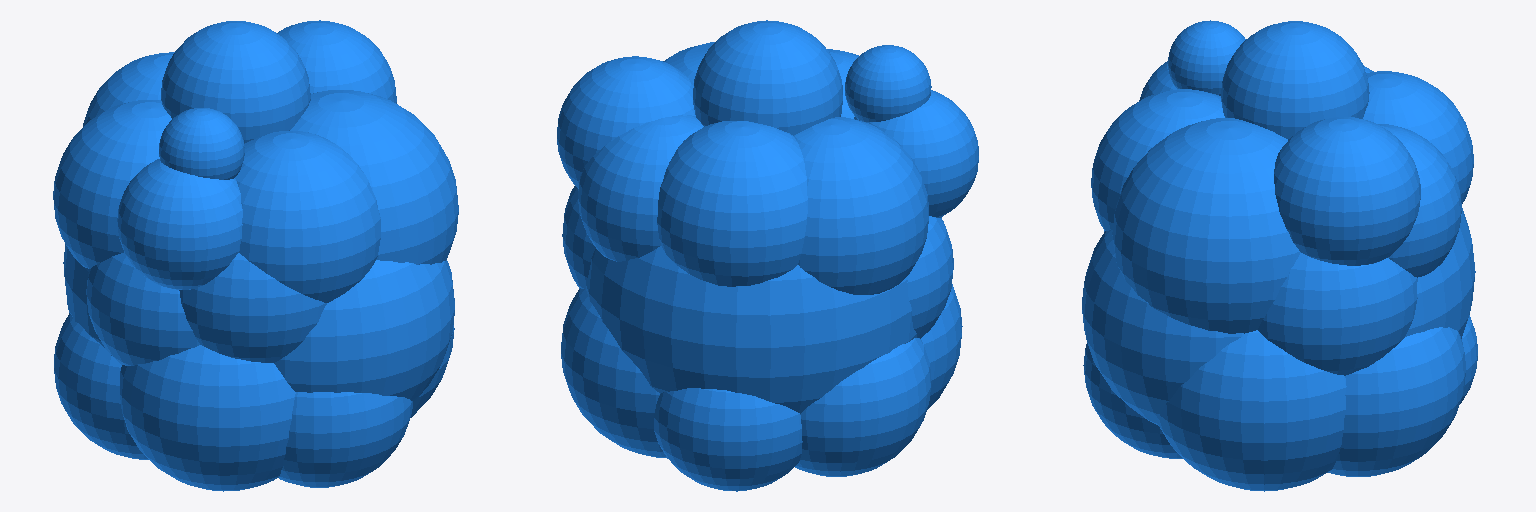
robot.urdf — cooker:
<?xml version="1.0"?>
<robot name="cooker">
  <!-- morphit:centroid -0.010629 0.001971 0.160175 -->
  <material name="default_color">
    <color rgba="0.200000 0.600000 1.000000 1.000000"/>
  </material>
  <link name="base">
    <inertial>
      <mass value="0.001000"/>
      <inertia ixx="0.000010" ixy="0.0" ixz="0.0" iyy="0.000010" iyz="0.0" izz="0.000010"/>
    </inertial>
  </link>
  <link name="sphere_0">
    <visual>
      <origin xyz="0 0 0" rpy="0 0 0"/>
      <geometry><sphere radius="0.082006"/></geometry>
      <material name="default_color"/>
    </visual>
    <collision>
      <origin xyz="0 0 0" rpy="0 0 0"/>
      <geometry><sphere radius="0.082006"/></geometry>
    </collision>
    <inertial>
      <mass value="0.056580"/>
      <inertia ixx="0.000152" ixy="0.0" ixz="0.0" iyy="0.000152" iyz="0.0" izz="0.000152"/>
    </inertial>
  </link>
  <joint name="sphere_0_fixed" type="fixed">
    <parent link="base"/>
    <child link="sphere_0"/>
    <origin xyz="-0.042521 -0.042486 -0.084734" rpy="0 0 0"/>
  </joint>
  <link name="sphere_1">
    <visual>
      <origin xyz="0 0 0" rpy="0 0 0"/>
      <geometry><sphere radius="0.088772"/></geometry>
      <material name="default_color"/>
    </visual>
    <collision>
      <origin xyz="0 0 0" rpy="0 0 0"/>
      <geometry><sphere radius="0.088772"/></geometry>
    </collision>
    <inertial>
      <mass value="0.071773"/>
      <inertia ixx="0.000226" ixy="0.0" ixz="0.0" iyy="0.000226" iyz="0.0" izz="0.000226"/>
    </inertial>
  </link>
  <joint name="sphere_1_fixed" type="fixed">
    <parent link="base"/>
    <child link="sphere_1"/>
    <origin xyz="0.070634 -0.011053 -0.077750" rpy="0 0 0"/>
  </joint>
  <link name="sphere_2">
    <visual>
      <origin xyz="0 0 0" rpy="0 0 0"/>
      <geometry><sphere radius="0.130591"/></geometry>
      <material name="default_color"/>
    </visual>
    <collision>
      <origin xyz="0 0 0" rpy="0 0 0"/>
      <geometry><sphere radius="0.130591"/></geometry>
    </collision>
    <inertial>
      <mass value="0.228489"/>
      <inertia ixx="0.001559" ixy="0.0" ixz="0.0" iyy="0.001559" iyz="0.0" izz="0.001559"/>
    </inertial>
  </link>
  <joint name="sphere_2_fixed" type="fixed">
    <parent link="base"/>
    <child link="sphere_2"/>
    <origin xyz="0.002613 0.017402 -0.025261" rpy="0 0 0"/>
  </joint>
  <link name="sphere_3">
    <visual>
      <origin xyz="0 0 0" rpy="0 0 0"/>
      <geometry><sphere radius="0.088016"/></geometry>
      <material name="default_color"/>
    </visual>
    <collision>
      <origin xyz="0 0 0" rpy="0 0 0"/>
      <geometry><sphere radius="0.088016"/></geometry>
    </collision>
    <inertial>
      <mass value="0.069953"/>
      <inertia ixx="0.000217" ixy="0.0" ixz="0.0" iyy="0.000217" iyz="0.0" izz="0.000217"/>
    </inertial>
  </link>
  <joint name="sphere_3_fixed" type="fixed">
    <parent link="base"/>
    <child link="sphere_3"/>
    <origin xyz="0.060050 -0.037404 0.032953" rpy="0 0 0"/>
  </joint>
  <link name="sphere_4">
    <visual>
      <origin xyz="0 0 0" rpy="0 0 0"/>
      <geometry><sphere radius="0.063978"/></geometry>
      <material name="default_color"/>
    </visual>
    <collision>
      <origin xyz="0 0 0" rpy="0 0 0"/>
      <geometry><sphere radius="0.063978"/></geometry>
    </collision>
    <inertial>
      <mass value="0.026867"/>
      <inertia ixx="0.000044" ixy="0.0" ixz="0.0" iyy="0.000044" iyz="0.0" izz="0.000044"/>
    </inertial>
  </link>
  <joint name="sphere_4_fixed" type="fixed">
    <parent link="base"/>
    <child link="sphere_4"/>
    <origin xyz="0.051607 0.073885 0.050581" rpy="0 0 0"/>
  </joint>
  <link name="sphere_5">
    <visual>
      <origin xyz="0 0 0" rpy="0 0 0"/>
      <geometry><sphere radius="0.081423"/></geometry>
      <material name="default_color"/>
    </visual>
    <collision>
      <origin xyz="0 0 0" rpy="0 0 0"/>
      <geometry><sphere radius="0.081423"/></geometry>
    </collision>
    <inertial>
      <mass value="0.055383"/>
      <inertia ixx="0.000147" ixy="0.0" ixz="0.0" iyy="0.000147" iyz="0.0" izz="0.000147"/>
    </inertial>
  </link>
  <joint name="sphere_5_fixed" type="fixed">
    <parent link="base"/>
    <child link="sphere_5"/>
    <origin xyz="0.054348 0.059633 -0.081742" rpy="0 0 0"/>
  </joint>
  <link name="sphere_6">
    <visual>
      <origin xyz="0 0 0" rpy="0 0 0"/>
      <geometry><sphere radius="0.063649"/></geometry>
      <material name="default_color"/>
    </visual>
    <collision>
      <origin xyz="0 0 0" rpy="0 0 0"/>
      <geometry><sphere radius="0.063649"/></geometry>
    </collision>
    <inertial>
      <mass value="0.026455"/>
      <inertia ixx="0.000043" ixy="0.0" ixz="0.0" iyy="0.000043" iyz="0.0" izz="0.000043"/>
    </inertial>
  </link>
  <joint name="sphere_6_fixed" type="fixed">
    <parent link="base"/>
    <child link="sphere_6"/>
    <origin xyz="-0.016871 0.086463 -0.100841" rpy="0 0 0"/>
  </joint>
  <link name="sphere_7">
    <visual>
      <origin xyz="0 0 0" rpy="0 0 0"/>
      <geometry><sphere radius="0.070543"/></geometry>
      <material name="default_color"/>
    </visual>
    <collision>
      <origin xyz="0 0 0" rpy="0 0 0"/>
      <geometry><sphere radius="0.070543"/></geometry>
    </collision>
    <inertial>
      <mass value="0.036016"/>
      <inertia ixx="0.000072" ixy="0.0" ixz="0.0" iyy="0.000072" iyz="0.0" izz="0.000072"/>
    </inertial>
  </link>
  <joint name="sphere_7_fixed" type="fixed">
    <parent link="base"/>
    <child link="sphere_7"/>
    <origin xyz="-0.069441 0.027136 -0.093211" rpy="0 0 0"/>
  </joint>
  <link name="sphere_8">
    <visual>
      <origin xyz="0 0 0" rpy="0 0 0"/>
      <geometry><sphere radius="0.101410"/></geometry>
      <material name="default_color"/>
    </visual>
    <collision>
      <origin xyz="0 0 0" rpy="0 0 0"/>
      <geometry><sphere radius="0.101410"/></geometry>
    </collision>
    <inertial>
      <mass value="0.106996"/>
      <inertia ixx="0.000440" ixy="0.0" ixz="0.0" iyy="0.000440" iyz="0.0" izz="0.000440"/>
    </inertial>
  </link>
  <joint name="sphere_8_fixed" type="fixed">
    <parent link="base"/>
    <child link="sphere_8"/>
    <origin xyz="0.035875 -0.047114 -0.037587" rpy="0 0 0"/>
  </joint>
  <link name="sphere_9">
    <visual>
      <origin xyz="0 0 0" rpy="0 0 0"/>
      <geometry><sphere radius="0.051178"/></geometry>
      <material name="default_color"/>
    </visual>
    <collision>
      <origin xyz="0 0 0" rpy="0 0 0"/>
      <geometry><sphere radius="0.051178"/></geometry>
    </collision>
    <inertial>
      <mass value="0.013752"/>
      <inertia ixx="0.000014" ixy="0.0" ixz="0.0" iyy="0.000014" iyz="0.0" izz="0.000014"/>
    </inertial>
  </link>
  <joint name="sphere_9_fixed" type="fixed">
    <parent link="base"/>
    <child link="sphere_9"/>
    <origin xyz="-0.084720 -0.055876 0.062280" rpy="0 0 0"/>
  </joint>
  <link name="sphere_10">
    <visual>
      <origin xyz="0 0 0" rpy="0 0 0"/>
      <geometry><sphere radius="0.067508"/></geometry>
      <material name="default_color"/>
    </visual>
    <collision>
      <origin xyz="0 0 0" rpy="0 0 0"/>
      <geometry><sphere radius="0.067508"/></geometry>
    </collision>
    <inertial>
      <mass value="0.031565"/>
      <inertia ixx="0.000058" ixy="0.0" ixz="0.0" iyy="0.000058" iyz="0.0" izz="0.000058"/>
    </inertial>
  </link>
  <joint name="sphere_10_fixed" type="fixed">
    <parent link="base"/>
    <child link="sphere_10"/>
    <origin xyz="-0.018784 0.079482 0.057415" rpy="0 0 0"/>
  </joint>
  <link name="sphere_11">
    <visual>
      <origin xyz="0 0 0" rpy="0 0 0"/>
      <geometry><sphere radius="0.032242"/></geometry>
      <material name="default_color"/>
    </visual>
    <collision>
      <origin xyz="0 0 0" rpy="0 0 0"/>
      <geometry><sphere radius="0.032242"/></geometry>
    </collision>
    <inertial>
      <mass value="0.003439"/>
      <inertia ixx="0.000001" ixy="0.0" ixz="0.0" iyy="0.000001" iyz="0.0" izz="0.000001"/>
    </inertial>
  </link>
  <joint name="sphere_11_fixed" type="fixed">
    <parent link="base"/>
    <child link="sphere_11"/>
    <origin xyz="-0.068211 -0.051390 0.115244" rpy="0 0 0"/>
  </joint>
  <link name="sphere_12">
    <visual>
      <origin xyz="0 0 0" rpy="0 0 0"/>
      <geometry><sphere radius="0.056095"/></geometry>
      <material name="default_color"/>
    </visual>
    <collision>
      <origin xyz="0 0 0" rpy="0 0 0"/>
      <geometry><sphere radius="0.056095"/></geometry>
    </collision>
    <inertial>
      <mass value="0.018109"/>
      <inertia ixx="0.000023" ixy="0.0" ixz="0.0" iyy="0.000023" iyz="0.0" izz="0.000023"/>
    </inertial>
  </link>
  <joint name="sphere_12_fixed" type="fixed">
    <parent link="base"/>
    <child link="sphere_12"/>
    <origin xyz="-0.002082 0.012349 0.119334" rpy="0 0 0"/>
  </joint>
  <link name="sphere_13">
    <visual>
      <origin xyz="0 0 0" rpy="0 0 0"/>
      <geometry><sphere radius="0.073414"/></geometry>
      <material name="default_color"/>
    </visual>
    <collision>
      <origin xyz="0 0 0" rpy="0 0 0"/>
      <geometry><sphere radius="0.073414"/></geometry>
    </collision>
    <inertial>
      <mass value="0.040595"/>
      <inertia ixx="0.000088" ixy="0.0" ixz="0.0" iyy="0.000088" iyz="0.0" izz="0.000088"/>
    </inertial>
  </link>
  <joint name="sphere_13_fixed" type="fixed">
    <parent link="base"/>
    <child link="sphere_13"/>
    <origin xyz="-0.061808 -0.013606 -0.016134" rpy="0 0 0"/>
  </joint>
  <link name="sphere_14">
    <visual>
      <origin xyz="0 0 0" rpy="0 0 0"/>
      <geometry><sphere radius="0.070316"/></geometry>
      <material name="default_color"/>
    </visual>
    <collision>
      <origin xyz="0 0 0" rpy="0 0 0"/>
      <geometry><sphere radius="0.070316"/></geometry>
    </collision>
    <inertial>
      <mass value="0.035668"/>
      <inertia ixx="0.000071" ixy="0.0" ixz="0.0" iyy="0.000071" iyz="0.0" izz="0.000071"/>
    </inertial>
  </link>
  <joint name="sphere_14_fixed" type="fixed">
    <parent link="base"/>
    <child link="sphere_14"/>
    <origin xyz="0.018809 -0.076827 -0.095173" rpy="0 0 0"/>
  </joint>
  <link name="sphere_15">
    <visual>
      <origin xyz="0 0 0" rpy="0 0 0"/>
      <geometry><sphere radius="0.072153"/></geometry>
      <material name="default_color"/>
    </visual>
    <collision>
      <origin xyz="0 0 0" rpy="0 0 0"/>
      <geometry><sphere radius="0.072153"/></geometry>
    </collision>
    <inertial>
      <mass value="0.038538"/>
      <inertia ixx="0.000080" ixy="0.0" ixz="0.0" iyy="0.000080" iyz="0.0" izz="0.000080"/>
    </inertial>
  </link>
  <joint name="sphere_15_fixed" type="fixed">
    <parent link="base"/>
    <child link="sphere_15"/>
    <origin xyz="-0.027509 -0.060377 0.006407" rpy="0 0 0"/>
  </joint>
  <link name="sphere_16">
    <visual>
      <origin xyz="0 0 0" rpy="0 0 0"/>
      <geometry><sphere radius="0.072971"/></geometry>
      <material name="default_color"/>
    </visual>
    <collision>
      <origin xyz="0 0 0" rpy="0 0 0"/>
      <geometry><sphere radius="0.072971"/></geometry>
    </collision>
    <inertial>
      <mass value="0.039864"/>
      <inertia ixx="0.000085" ixy="0.0" ixz="0.0" iyy="0.000085" iyz="0.0" izz="0.000085"/>
    </inertial>
  </link>
  <joint name="sphere_16_fixed" type="fixed">
    <parent link="base"/>
    <child link="sphere_16"/>
    <origin xyz="-0.065951 0.029034 0.044001" rpy="0 0 0"/>
  </joint>
  <link name="sphere_17">
    <visual>
      <origin xyz="0 0 0" rpy="0 0 0"/>
      <geometry><sphere radius="0.075010"/></geometry>
      <material name="default_color"/>
    </visual>
    <collision>
      <origin xyz="0 0 0" rpy="0 0 0"/>
      <geometry><sphere radius="0.075010"/></geometry>
    </collision>
    <inertial>
      <mass value="0.043300"/>
      <inertia ixx="0.000097" ixy="0.0" ixz="0.0" iyy="0.000097" iyz="0.0" izz="0.000097"/>
    </inertial>
  </link>
  <joint name="sphere_17_fixed" type="fixed">
    <parent link="base"/>
    <child link="sphere_17"/>
    <origin xyz="0.075982 0.032581 -0.002839" rpy="0 0 0"/>
  </joint>
  <link name="sphere_18">
    <visual>
      <origin xyz="0 0 0" rpy="0 0 0"/>
      <geometry><sphere radius="0.070692"/></geometry>
      <material name="default_color"/>
    </visual>
    <collision>
      <origin xyz="0 0 0" rpy="0 0 0"/>
      <geometry><sphere radius="0.070692"/></geometry>
    </collision>
    <inertial>
      <mass value="0.036244"/>
      <inertia ixx="0.000072" ixy="0.0" ixz="0.0" iyy="0.000072" iyz="0.0" izz="0.000072"/>
    </inertial>
  </link>
  <joint name="sphere_18_fixed" type="fixed">
    <parent link="base"/>
    <child link="sphere_18"/>
    <origin xyz="-0.002569 -0.070810 0.046437" rpy="0 0 0"/>
  </joint>
  <link name="sphere_19">
    <visual>
      <origin xyz="0 0 0" rpy="0 0 0"/>
      <geometry><sphere radius="0.058383"/></geometry>
      <material name="default_color"/>
    </visual>
    <collision>
      <origin xyz="0 0 0" rpy="0 0 0"/>
      <geometry><sphere radius="0.058383"/></geometry>
    </collision>
    <inertial>
      <mass value="0.020417"/>
      <inertia ixx="0.000028" ixy="0.0" ixz="0.0" iyy="0.000028" iyz="0.0" izz="0.000028"/>
    </inertial>
  </link>
  <joint name="sphere_19_fixed" type="fixed">
    <parent link="base"/>
    <child link="sphere_19"/>
    <origin xyz="0.090550 0.048980 0.080621" rpy="0 0 0"/>
  </joint>
</robot>

--- Facts derived from the render (not from the file) ---
The picture shows the robot from 3 angles, left to right: view 1: azimuth 30°, elevation 25°; view 2: azimuth 150°, elevation 25°; view 3: azimuth 270°, elevation 25°; orthographic projection.
Robot: cooker — 21 links, 20 joints (20 fixed); root link base; default pose: all joints at 0.
Visible links, largest first — view 1: sphere_0, sphere_18, sphere_8, sphere_3, sphere_12, sphere_9, sphere_16, sphere_14, sphere_15, sphere_13, sphere_7, sphere_19 (+4 smaller); view 2: sphere_2, sphere_10, sphere_16, sphere_12, sphere_6, sphere_7, sphere_4, sphere_19, sphere_5, sphere_9, sphere_11, sphere_13 (+4 smaller); view 3: sphere_3, sphere_1, sphere_19, sphere_17, sphere_5, sphere_8, sphere_12, sphere_18, sphere_10, sphere_4, sphere_2, sphere_11 (+3 smaller).
Link boxes in pixels (left/top/right/bottom): sphere_0: left=120, top=345, right=295, bottom=491; sphere_18: left=235, top=131, right=380, bottom=302; sphere_8: left=274, top=260, right=454, bottom=401; sphere_3: left=290, top=90, right=458, bottom=264; sphere_12: left=161, top=21, right=310, bottom=142; sphere_9: left=117, top=159, right=242, bottom=289; sphere_16: left=53, top=100, right=171, bottom=268; sphere_14: left=279, top=392, right=412, bottom=487; sphere_15: left=179, top=253, right=326, bottom=362; sphere_13: left=86, top=252, right=199, bottom=365; sphere_7: left=54, top=313, right=148, bottom=459; sphere_19: left=277, top=20, right=396, bottom=103; sphere_2: left=586, top=246, right=916, bottom=413; sphere_10: left=657, top=121, right=807, bottom=286; sphere_16: left=794, top=117, right=928, bottom=294; sphere_12: left=693, top=20, right=842, bottom=135; sphere_6: left=654, top=388, right=802, bottom=491; sphere_7: left=795, top=338, right=931, bottom=476; sphere_4: left=578, top=115, right=703, bottom=261; sphere_19: left=557, top=56, right=695, bottom=188; sphere_5: left=561, top=288, right=667, bottom=458; sphere_9: left=854, top=90, right=978, bottom=217; sphere_11: left=845, top=45, right=931, bottom=121; sphere_13: left=907, top=216, right=953, bottom=338; sphere_3: left=1112, top=118, right=1300, bottom=333; sphere_1: left=1158, top=330, right=1346, bottom=491; sphere_19: left=1274, top=117, right=1420, bottom=265; sphere_17: left=1258, top=253, right=1417, bottom=375; sphere_5: left=1328, top=327, right=1465, bottom=476; sphere_8: left=1082, top=230, right=1243, bottom=425; sphere_12: left=1221, top=21, right=1369, bottom=139; sphere_18: left=1091, top=89, right=1224, bottom=230; sphere_10: left=1363, top=71, right=1473, bottom=203; sphere_4: left=1378, top=124, right=1461, bottom=277; sphere_2: left=1405, top=208, right=1475, bottom=338; sphere_11: left=1168, top=20, right=1245, bottom=95.
Size in the robot's own frame: 0.2994 by 0.2986 by 0.3422 metres.
Geometry: primitives only (box / cylinder / sphere), no mesh files.
